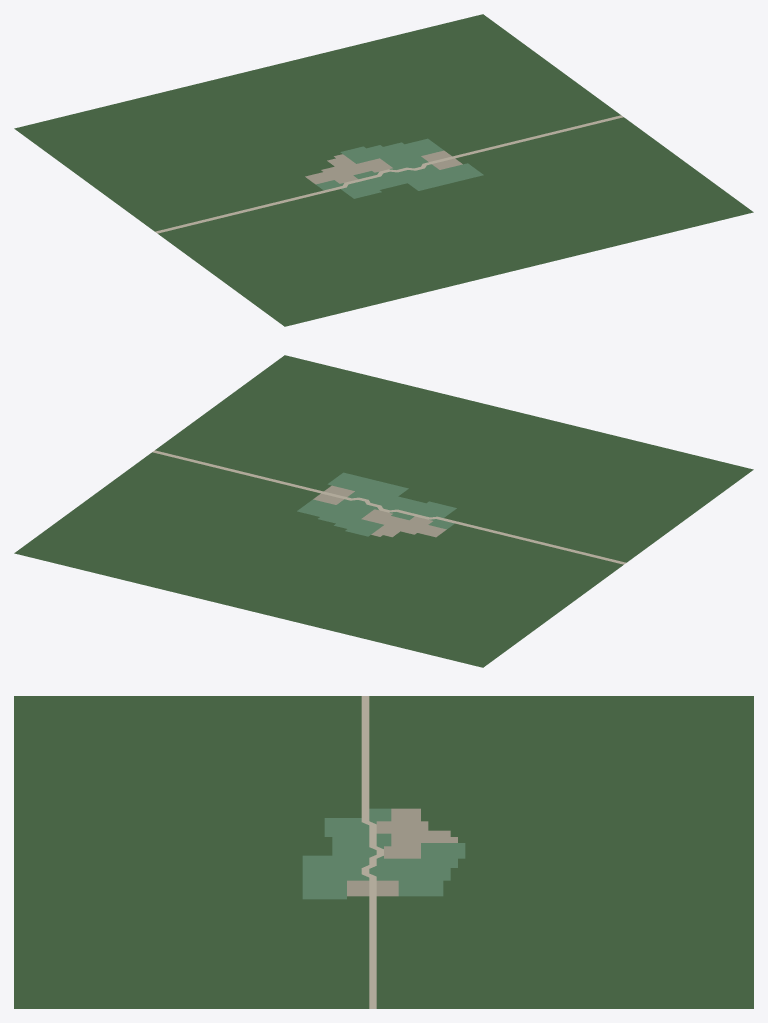
The picture shows the model from 3 angles, top to bottom: view 1: azimuth 30°, elevation 25°; view 2: azimuth 150°, elevation 25°; view 3: azimuth 270°, elevation 25°; orthographic projection. The views are drawn at different scales.
Visible parts, largest first — view 1: pPlane2; view 2: pPlane2; view 3: pPlane2.
Boxes of the visible parts, left/top/right/bottom form: pPlane2: left=14, top=14, right=753, bottom=326; pPlane2: left=14, top=355, right=753, bottom=667; pPlane2: left=14, top=696, right=753, bottom=1008.
Size of the model in its own units: 1000 by 0 by 1000.
